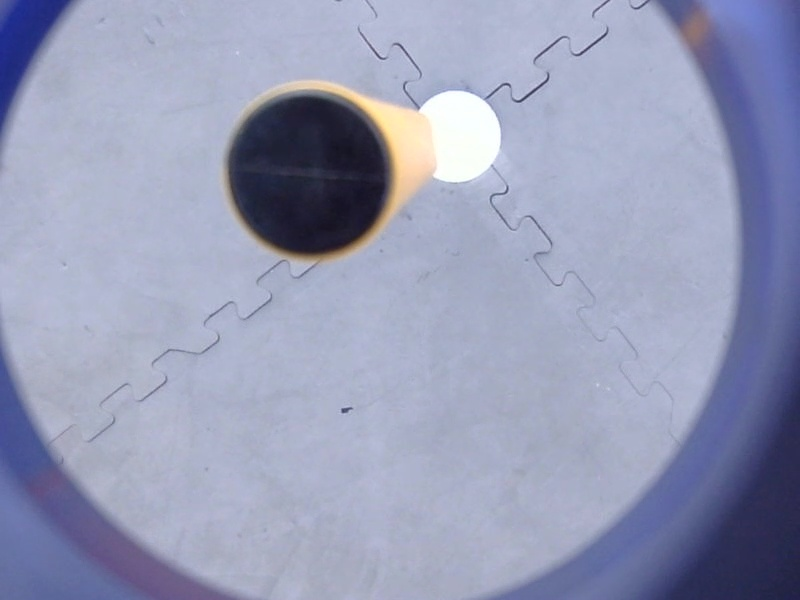tip: (209, 70, 405, 273)
